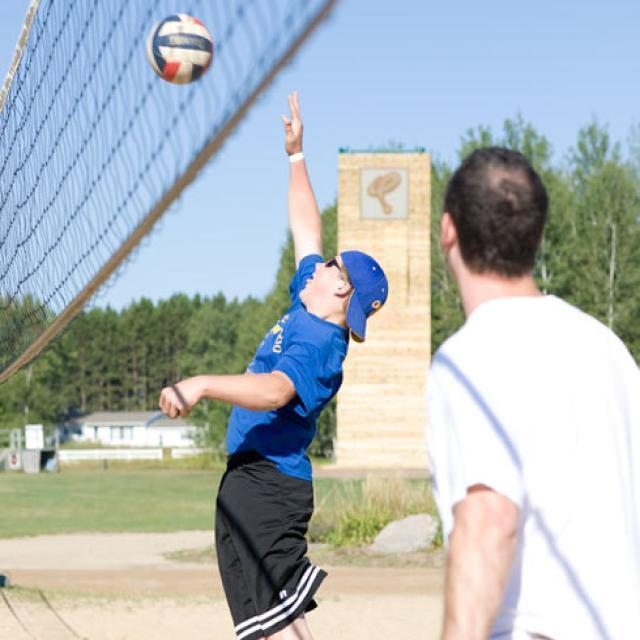volleyball: (147, 15, 210, 84)
